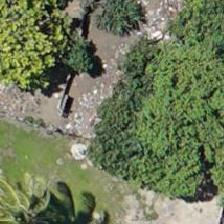coconut_tree: (0, 174, 65, 223)
